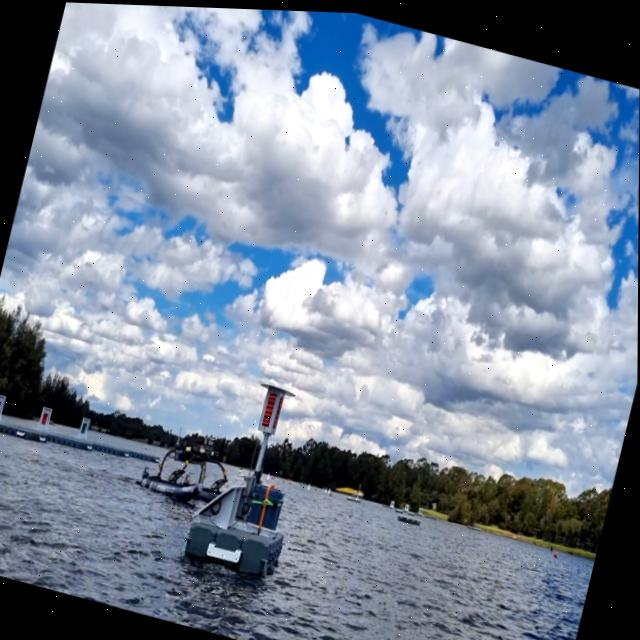led: (260, 387, 279, 427)
